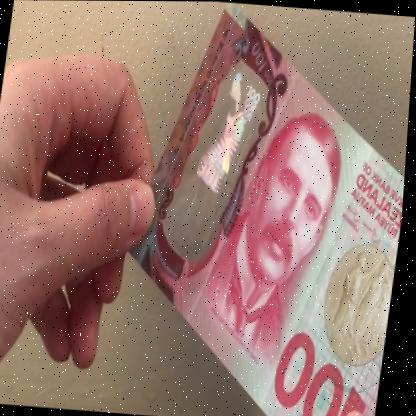100F: (174, 64, 268, 247)
